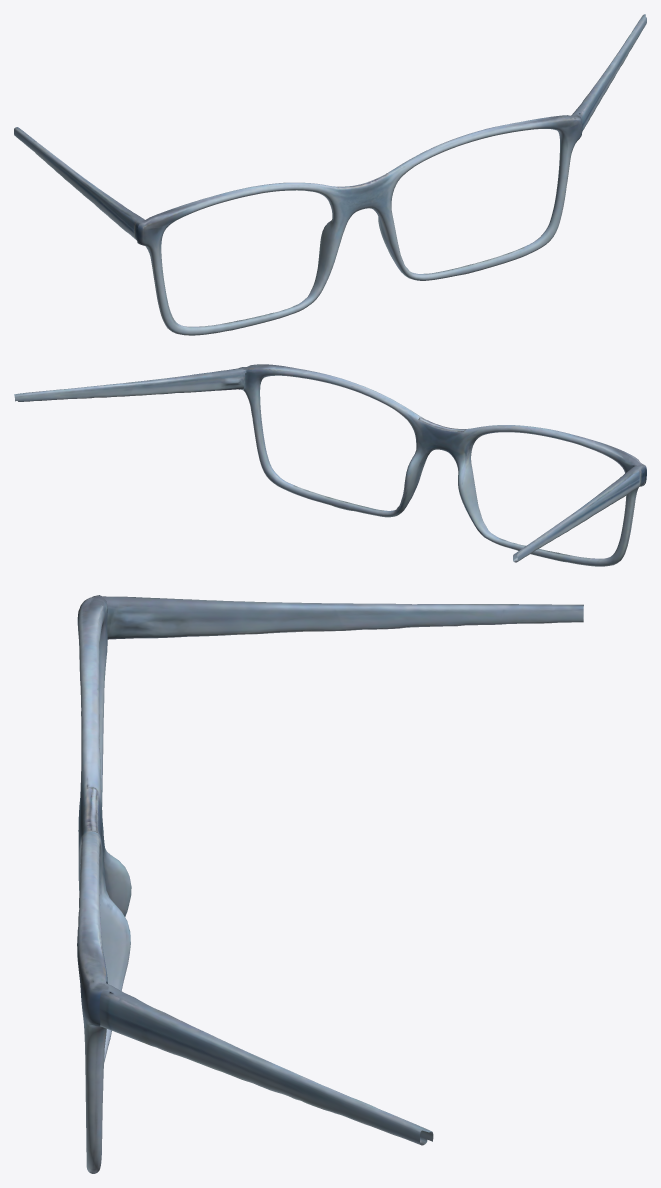
File: Blue_texture15.glb
3 views of the same model, one above another, from view 1: azimuth 30°, elevation 25°; view 2: azimuth 150°, elevation 25°; view 3: azimuth 270°, elevation 25° (orthographic). The views are drawn at different scales.
Visible parts, largest first — view 1: Glasses_Frame, Temple.L, Temple.R; view 2: Glasses_Frame, Temple.R, Temple.L; view 3: Glasses_Frame, Temple.L, Temple.R.
Boxes of the visible parts, x1,y1,x2,y2 form: Glasses_Frame: (137,114,582,335); Temple.L: (14,127,144,240); Temple.R: (571,14,646,131); Glasses_Frame: (238,364,646,566); Temple.R: (14,368,246,401); Temple.L: (513,465,645,562); Glasses_Frame: (77,595,131,1173); Temple.L: (103,596,583,639); Temple.R: (99,983,433,1145).
Size of the model in its own units: 7.92 by 1.77 by 3.16.
1 material, 1 textured.
